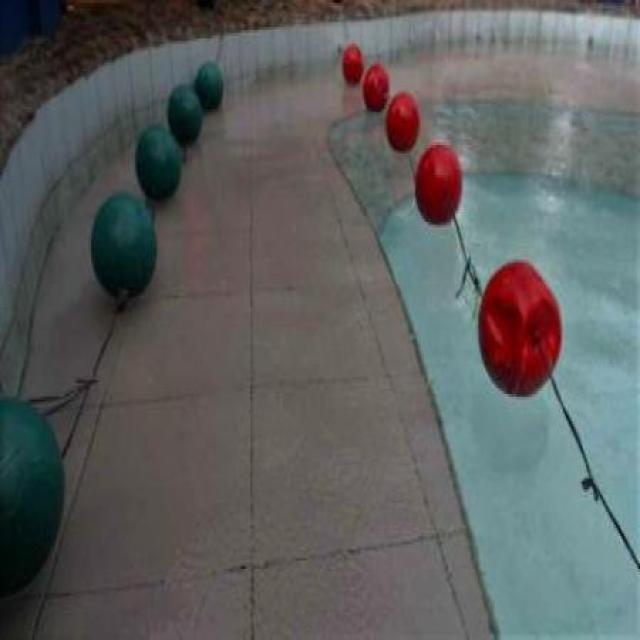buoy: (0, 393, 64, 597), (477, 261, 563, 400), (89, 193, 157, 299), (415, 143, 463, 224), (135, 124, 182, 198), (167, 84, 203, 146), (385, 90, 419, 150), (192, 62, 223, 106), (361, 65, 390, 110), (340, 42, 361, 83)
